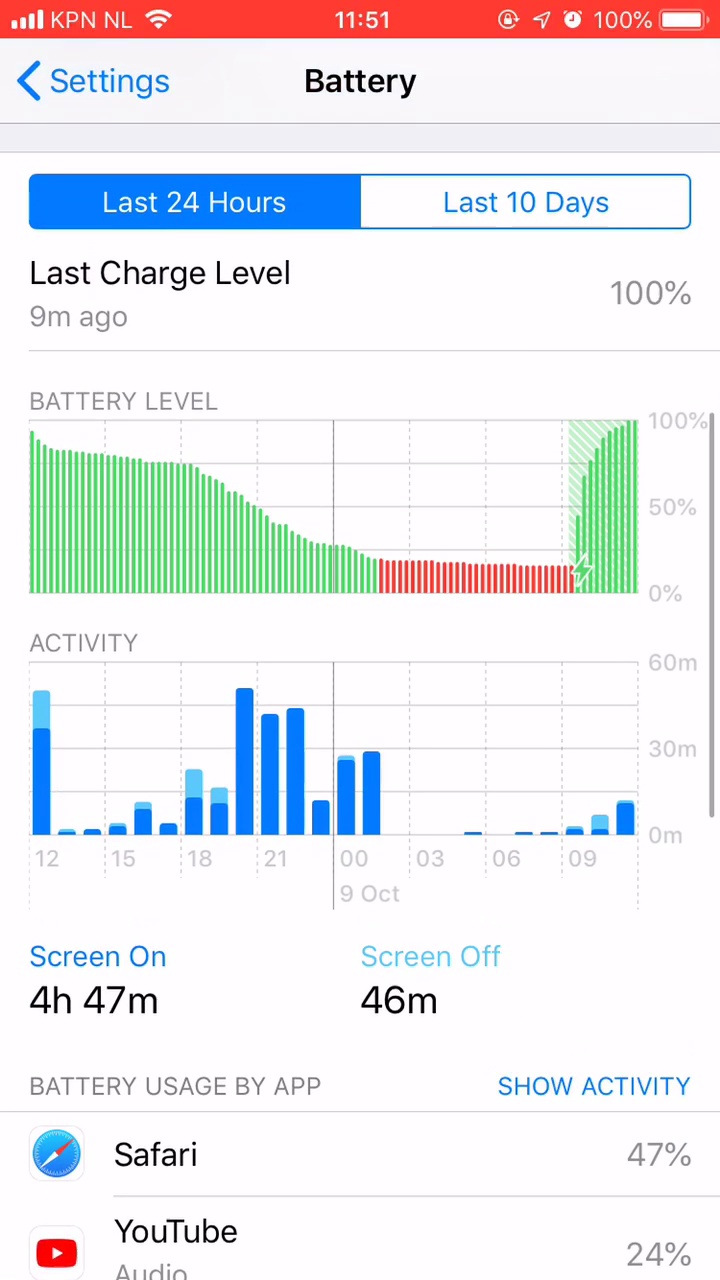app: (28, 1122, 703, 1189)
